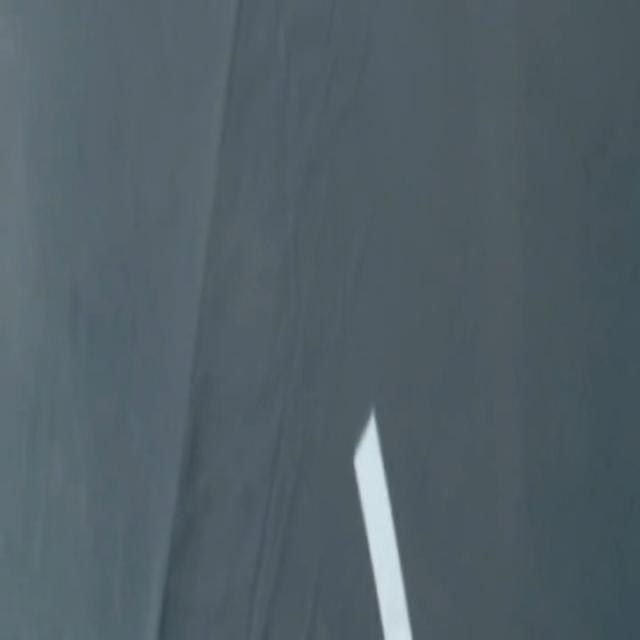center: (354, 408, 412, 639)
